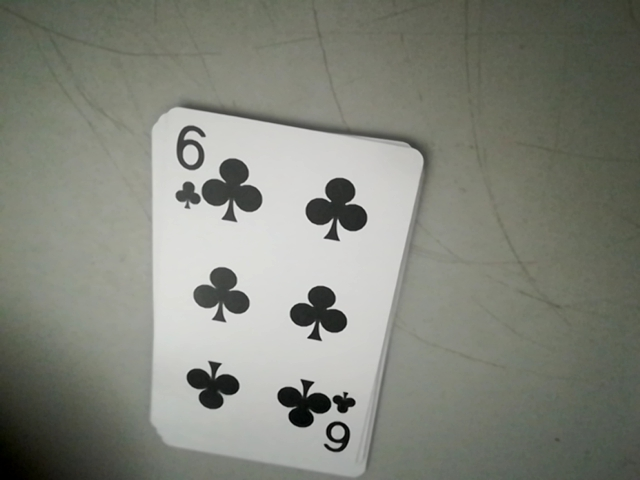mh 6: (158, 106, 218, 216), (316, 392, 364, 462)
